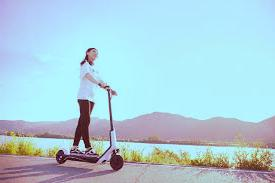nonhelmet: (53, 47, 127, 172)
